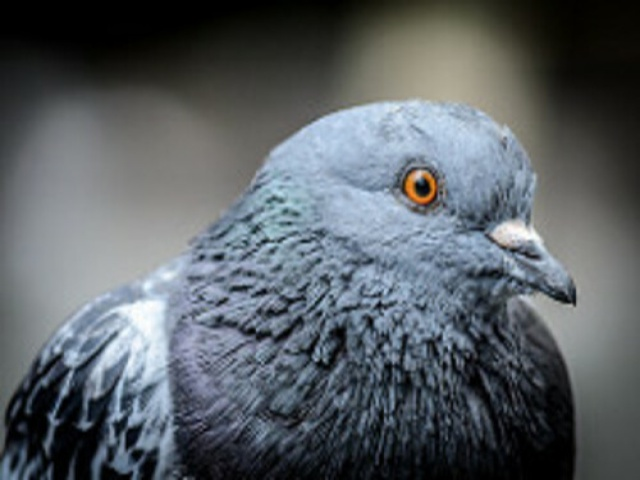Pigeon: (106, 86, 582, 456)
